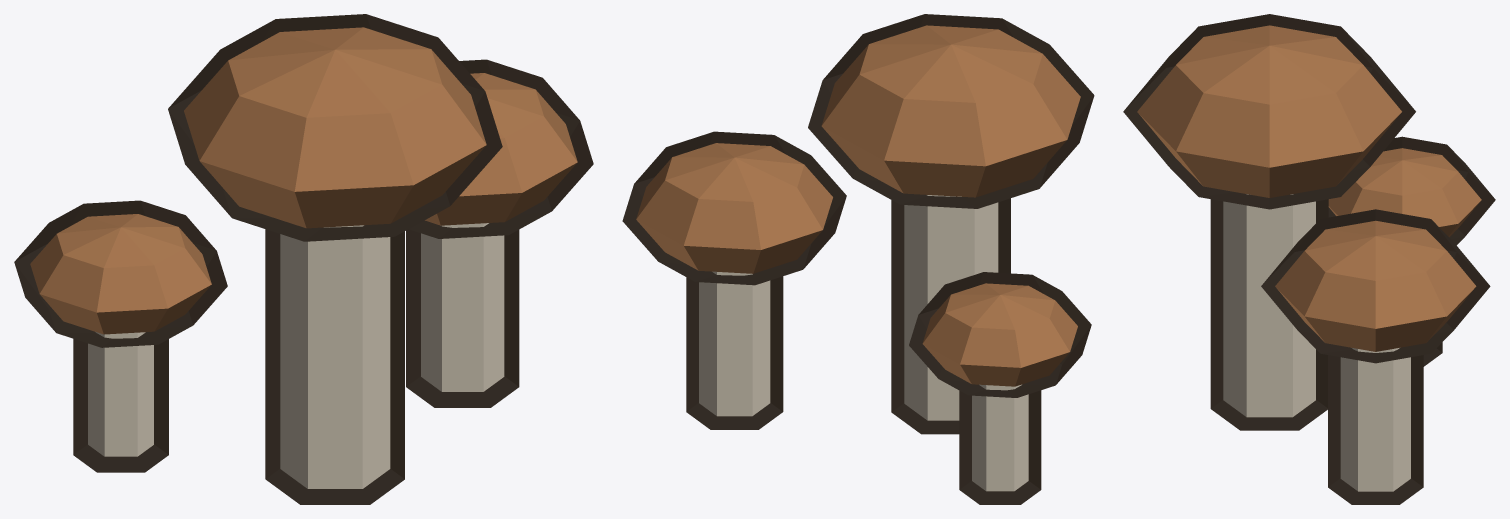
The model's file is mushroom_02.glb.
3 views of the same model, side by side, from view 1: azimuth 30°, elevation 25°; view 2: azimuth 150°, elevation 25°; view 3: azimuth 270°, elevation 25° (orthographic). The views are drawn at different scales.
Parts seen in each view (by area): view 1: OBJ_mushroom_02; view 2: OBJ_mushroom_02; view 3: OBJ_mushroom_02.
Part boxes in pixels (box(x1,y1,x2,y2)): OBJ_mushroom_02: box(14, 14, 593, 504); OBJ_mushroom_02: box(622, 14, 1094, 504); OBJ_mushroom_02: box(1123, 14, 1495, 504).
Bounding box in the file's own units: 0.1985 × 0.1553 × 0.1405.
